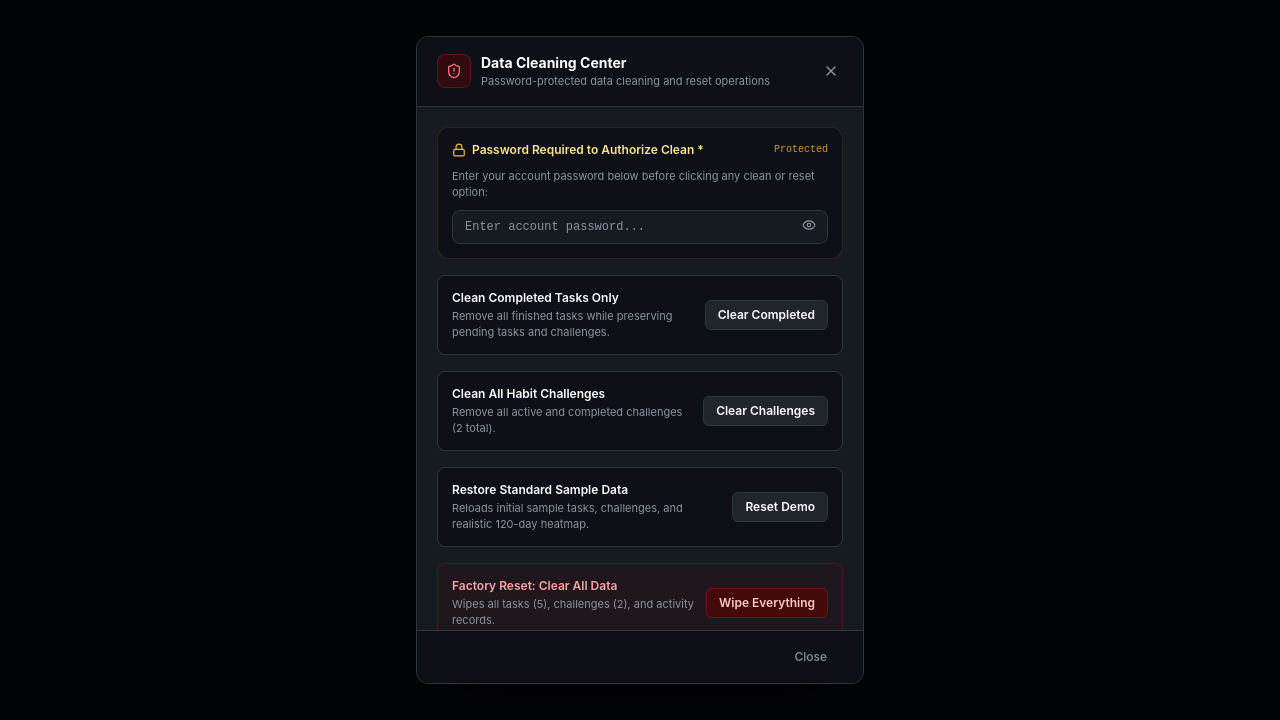
DataCleanModal Component › allows cleaning action when correct password is provided
Type "SecretPassword123!" into the password field with placeholder "Enter account password..." at (640, 226), box x1=452 y1=210 x2=828 y2=244
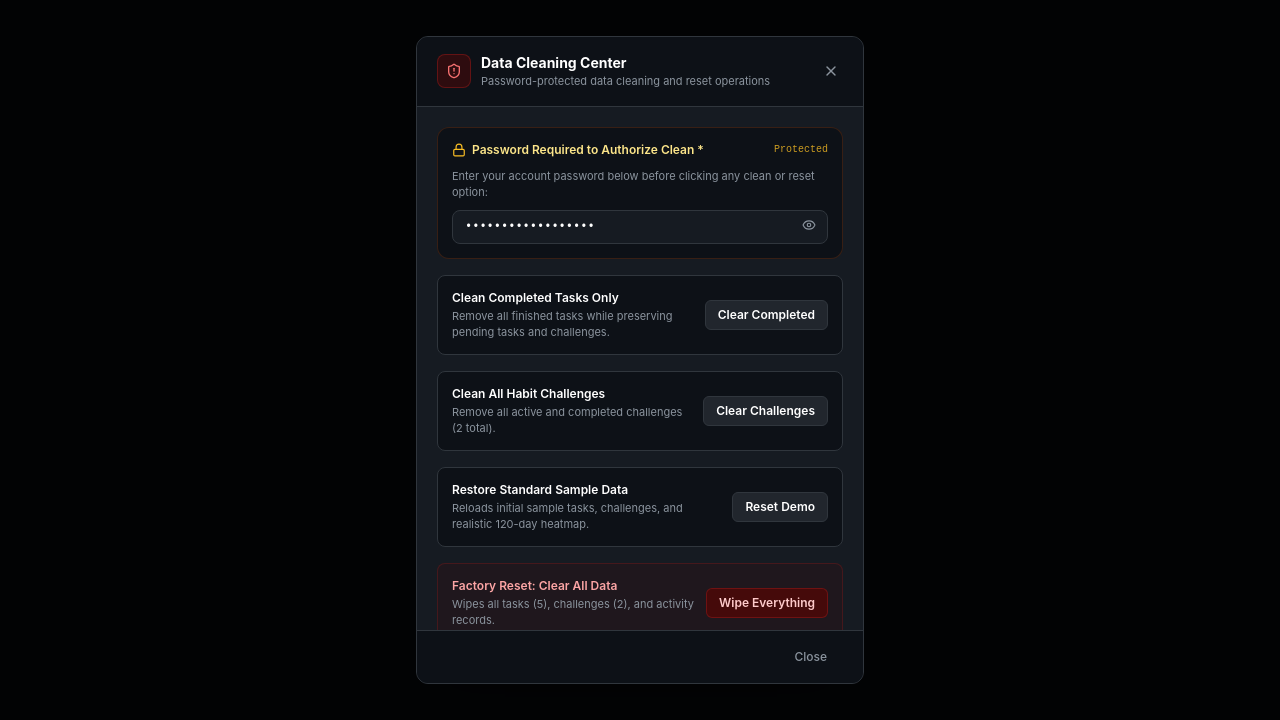
Click the button "Clear Completed" at (766, 314), box x1=705 y1=300 x2=828 y2=330
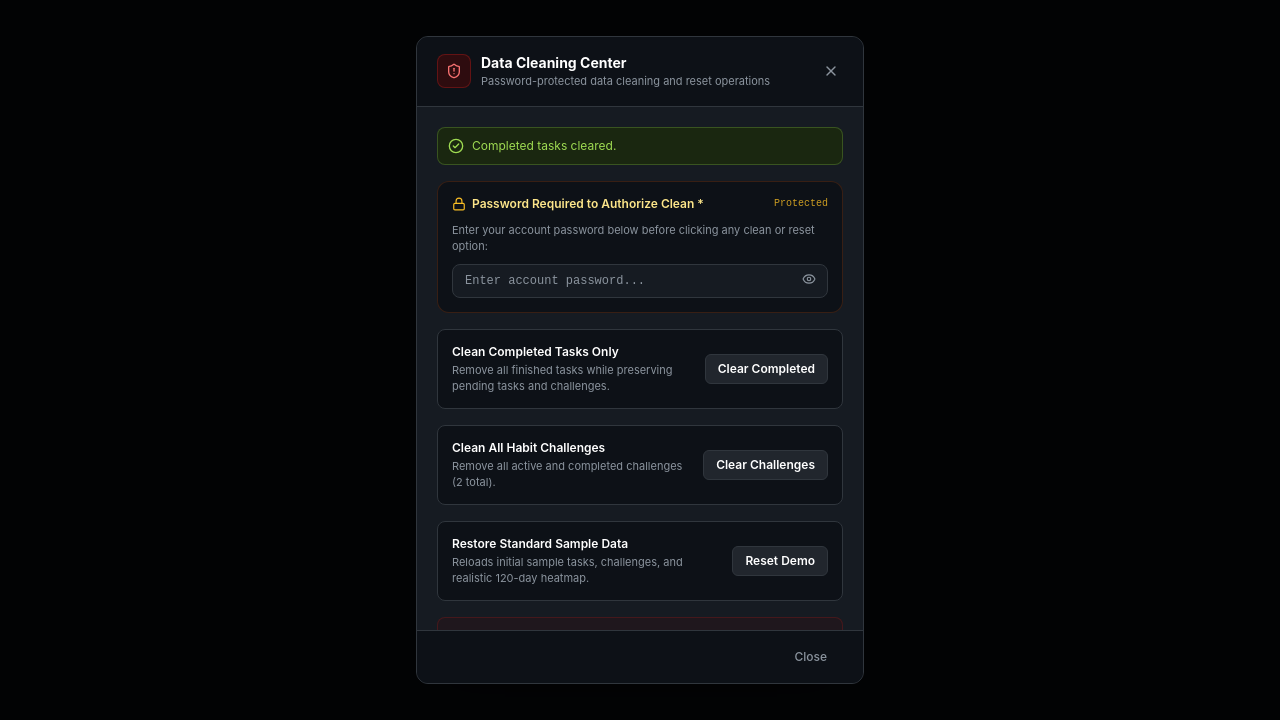
Now the text "Completed tasks cleared." is shown, box x1=472 y1=138 x2=616 y2=154
